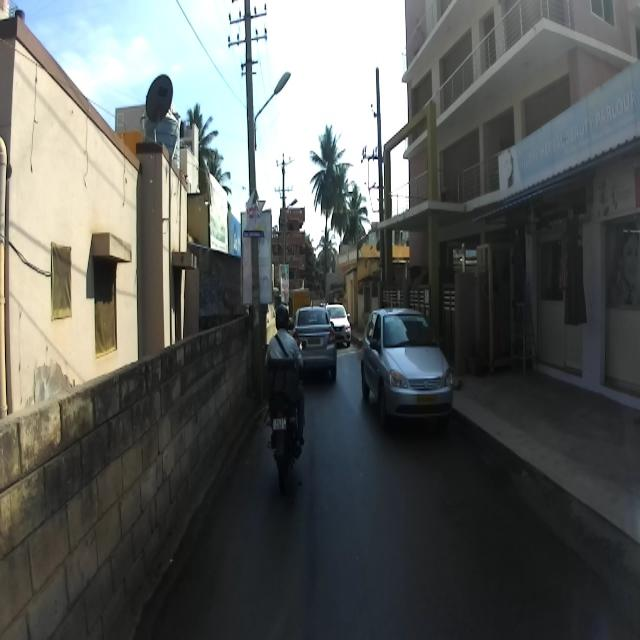car: (359, 306, 454, 426), (288, 304, 336, 380)
motorcycle: (261, 338, 307, 492)
